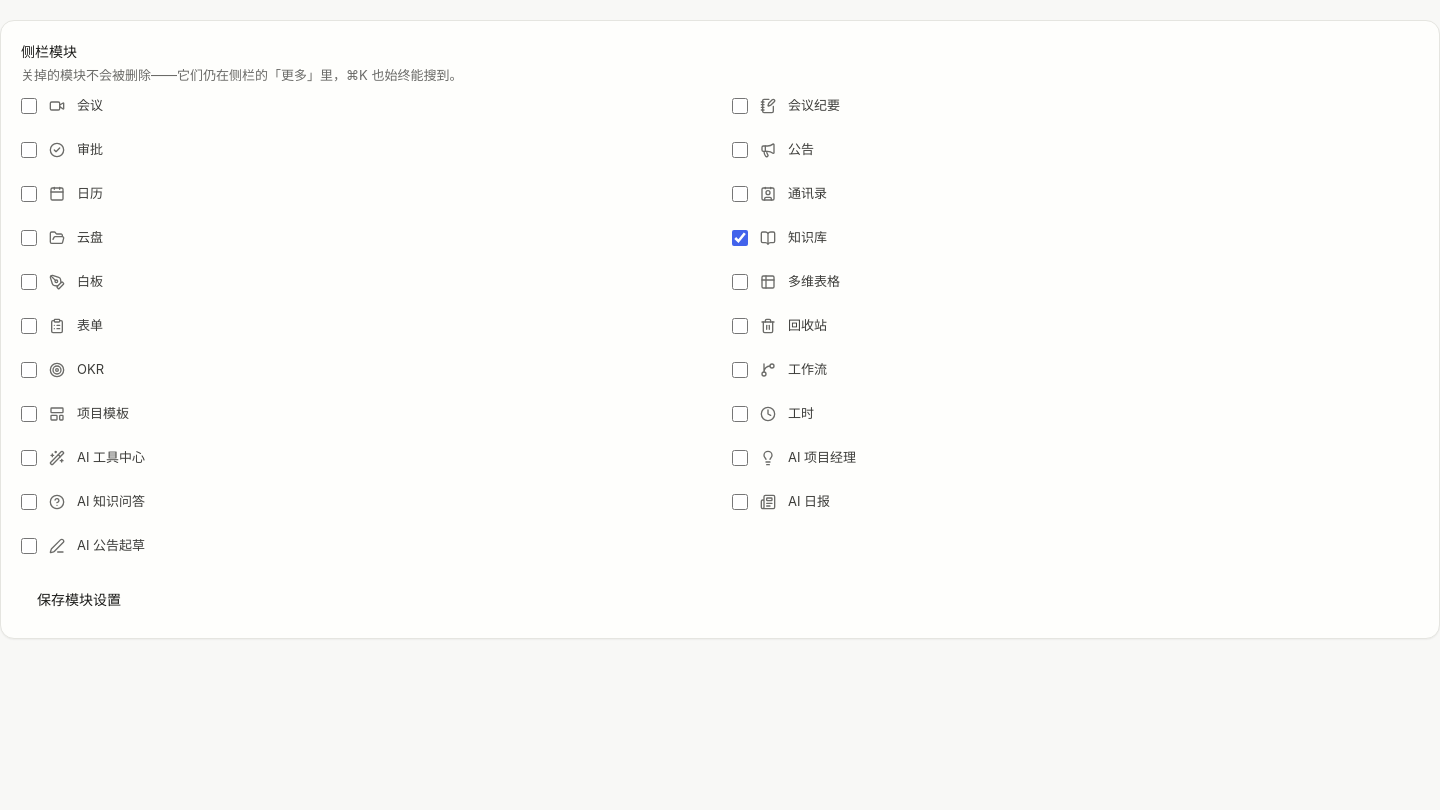
it: ModuleVisibilitySettings › 保存失败：错误可播报（role=alert），且不与「已保存」同时出现
The width and height of the screenshot is (1440, 810).
Click the button "保存模块设置" at (79, 600), box [21,582,137,618]
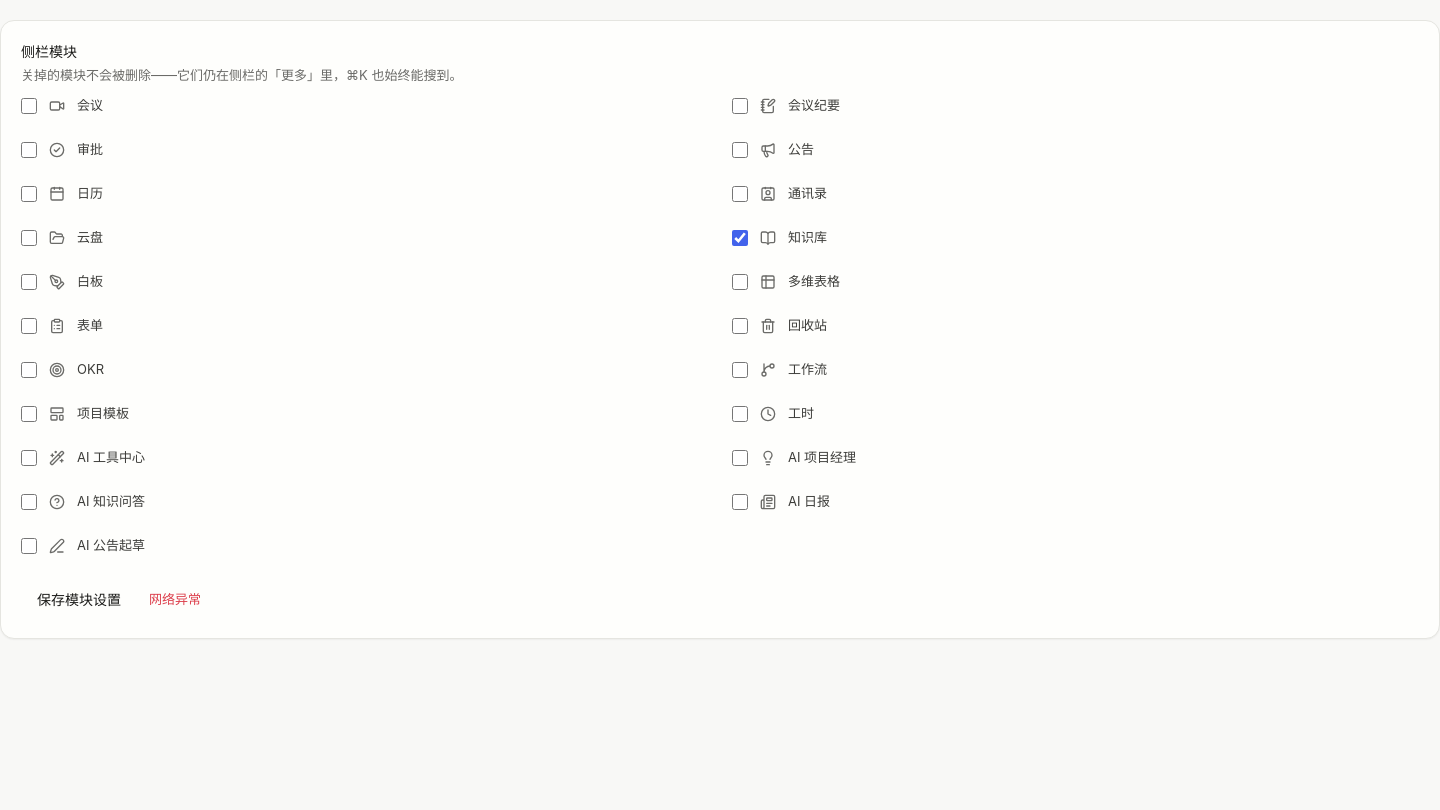
Result: the message "网络异常" is shown at [149,590,201,609]
Result: the message reads "网络异常" at [149,591,201,607]
